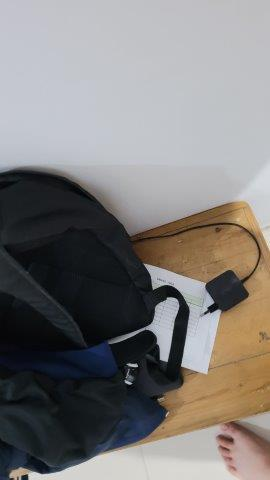kertas: (87, 260, 225, 374)
